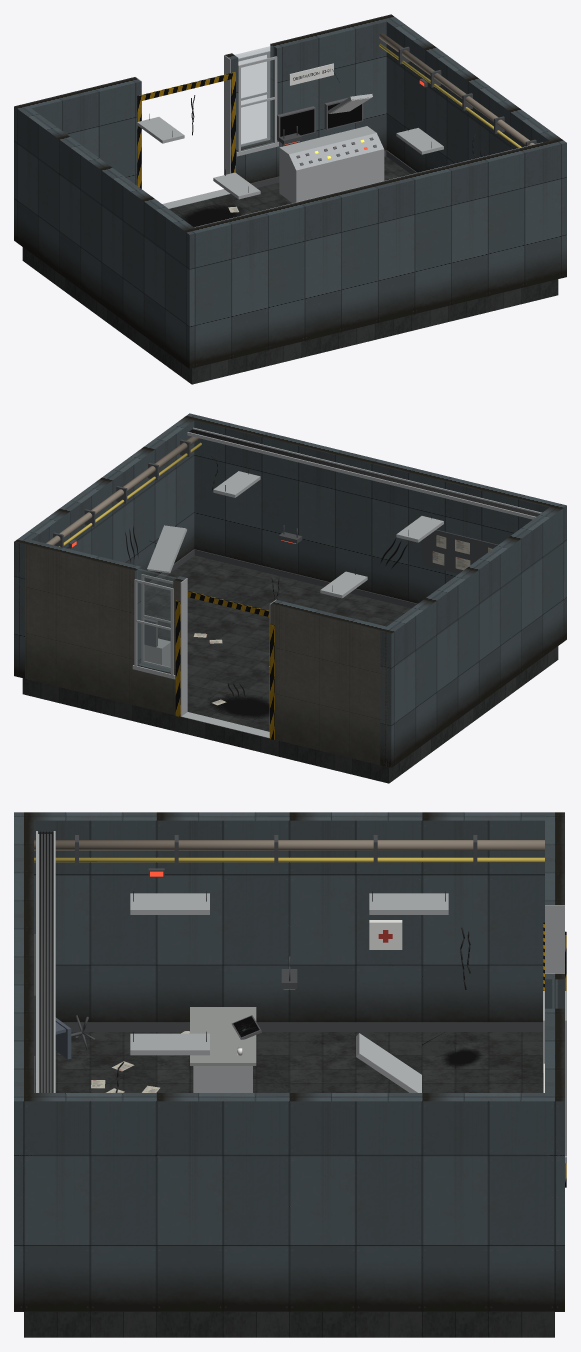
The model's file is observation.glb.
3 views of the same model, one above another, from view 1: azimuth 30°, elevation 25°; view 2: azimuth 150°, elevation 25°; view 3: azimuth 270°, elevation 25° (orthographic). The views are drawn at different scales.
Visible parts, largest first — view 1: Room_observation; view 2: Room_observation; view 3: Room_observation.
Part boxes in pixels (bbox=[...]): Room_observation: bbox=[14, 14, 566, 384]; Room_observation: bbox=[14, 413, 566, 783]; Room_observation: bbox=[14, 812, 566, 1337].
Bounding box in the file's own units: 10.3 × 4 × 8.33.
Materials: 23 (8 with a texture image).
